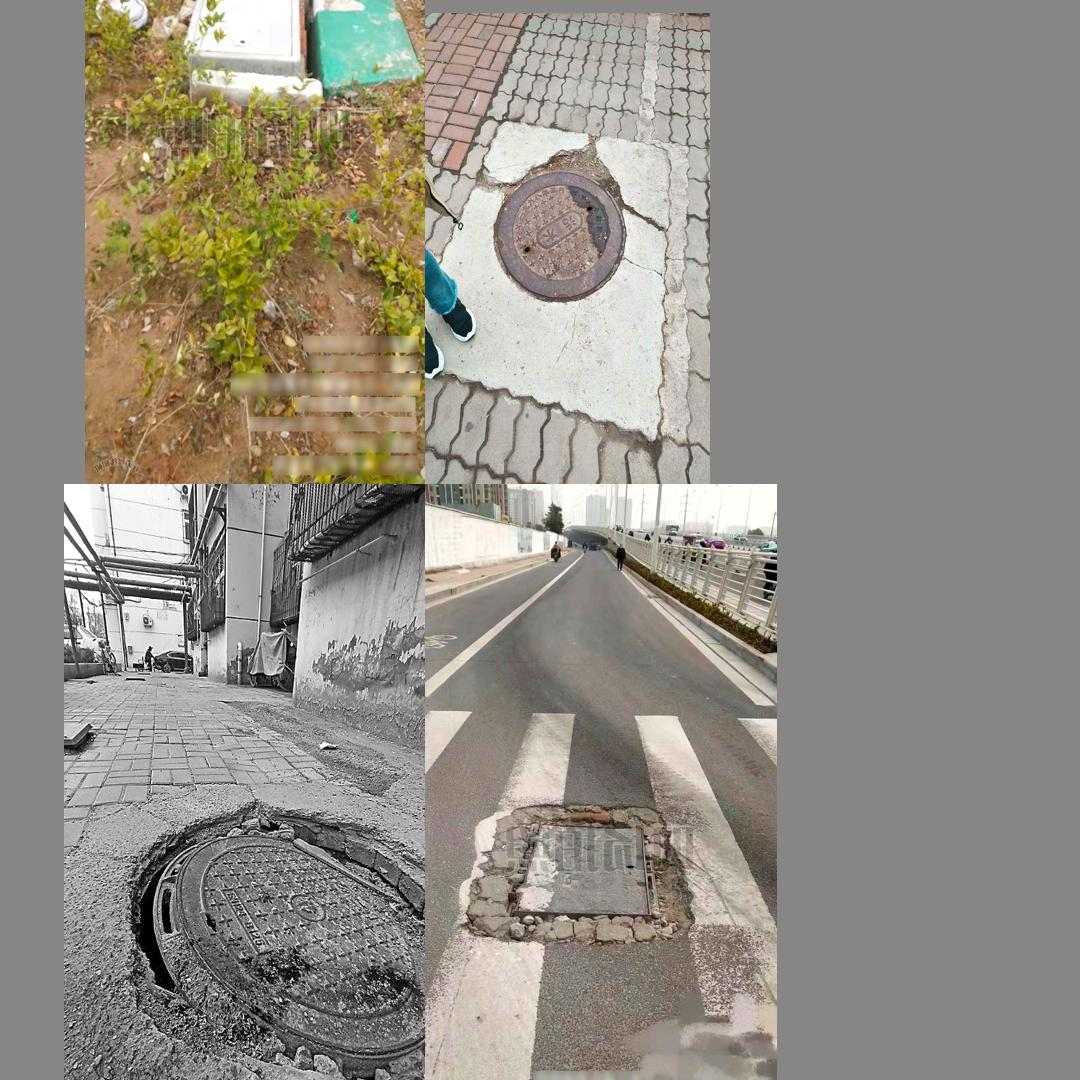circle: (111, 784, 424, 1080), (468, 139, 659, 323), (425, 996, 640, 1080), (175, 0, 324, 96)
